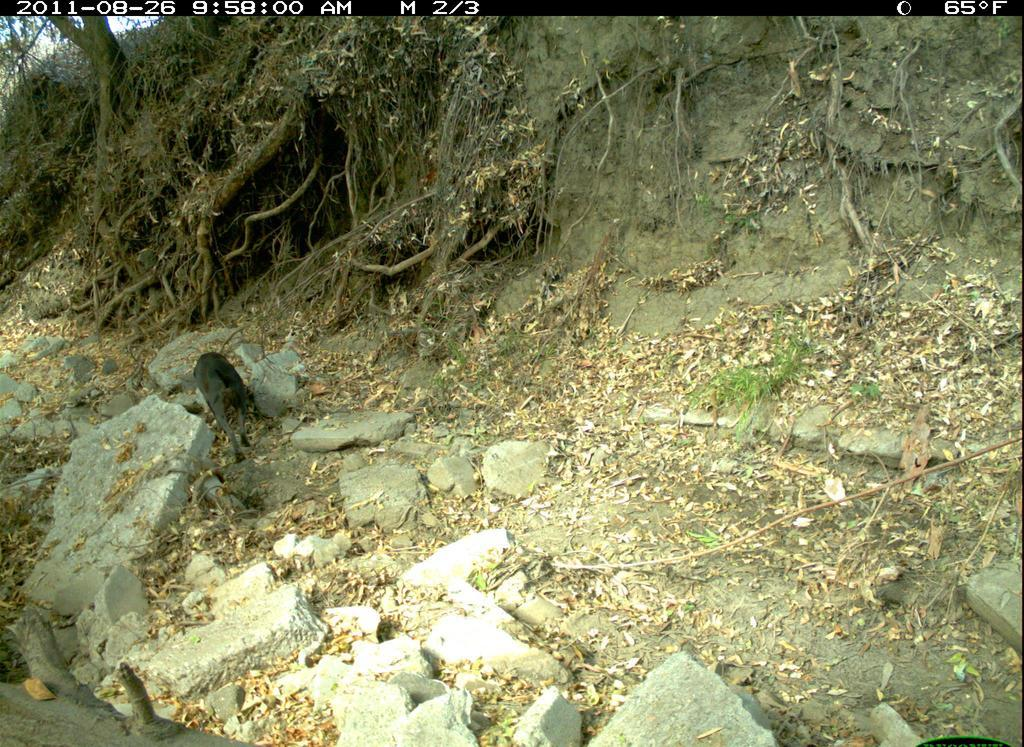dog: (178, 344, 272, 466)
